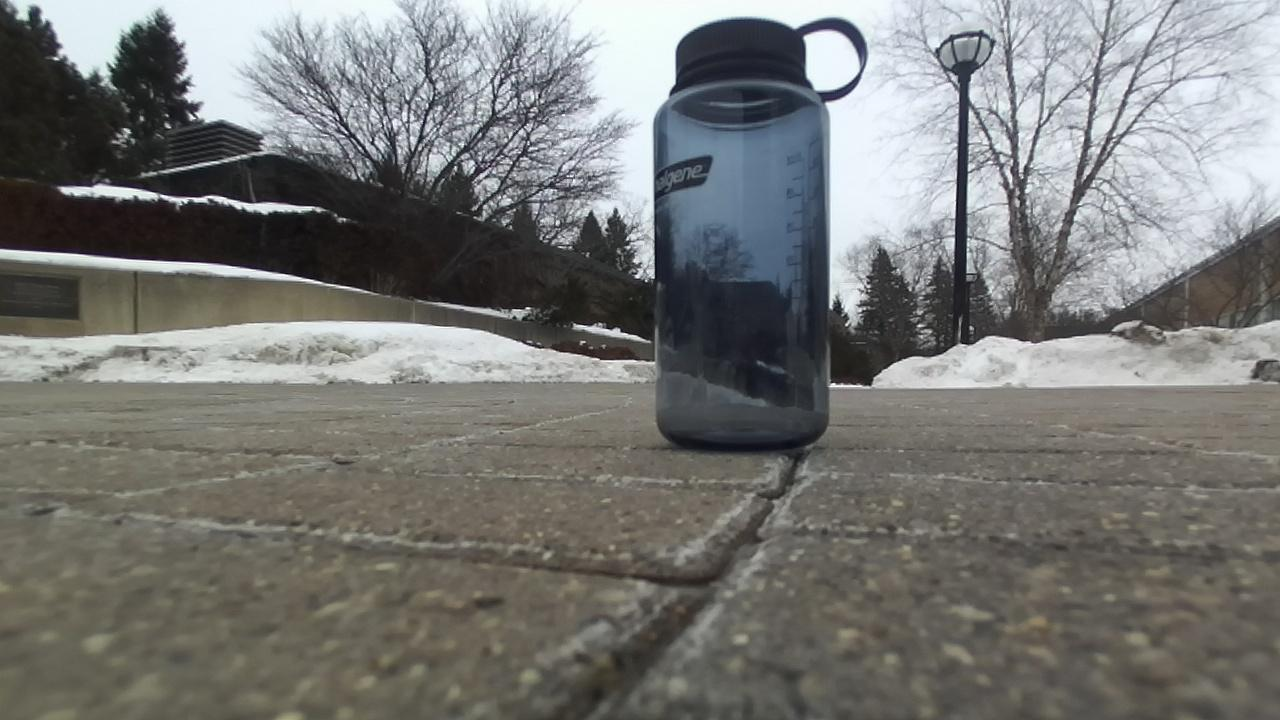bottle: (653, 18, 867, 448)
